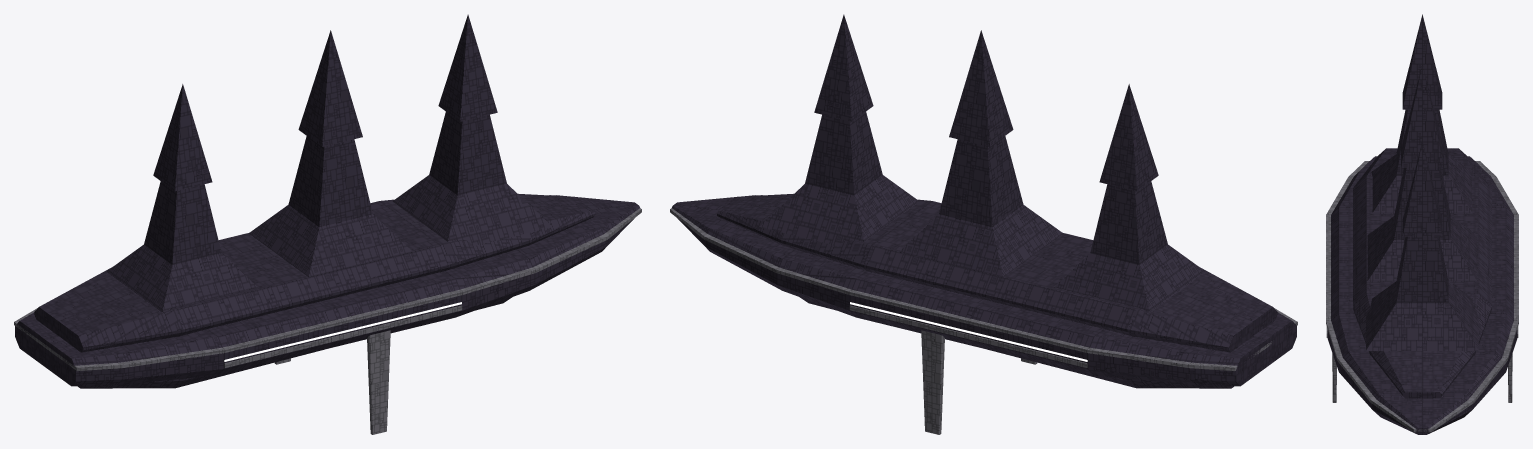
The model's file is dark_lod2.glb.
3 views of the same model, side by side, from view 1: azimuth 30°, elevation 25°; view 2: azimuth 150°, elevation 25°; view 3: azimuth 270°, elevation 25° (orthographic). The views are drawn at different scales.
Visible parts, largest first — view 1: dark_lod2_body, dark_lod2_glow; view 2: dark_lod2_body, dark_lod2_glow; view 3: dark_lod2_body.
Boxes of the visible parts, <box> form: dark_lod2_body: <box>14,14,641,434</box>; dark_lod2_glow: <box>224,302,461,361</box>; dark_lod2_body: <box>670,14,1297,434</box>; dark_lod2_glow: <box>850,302,1087,361</box>; dark_lod2_body: <box>1326,14,1518,434</box>.
Bounding box in the file's own units: 22.4 × 13.3 × 6.92.
2 materials, 1 textured.
